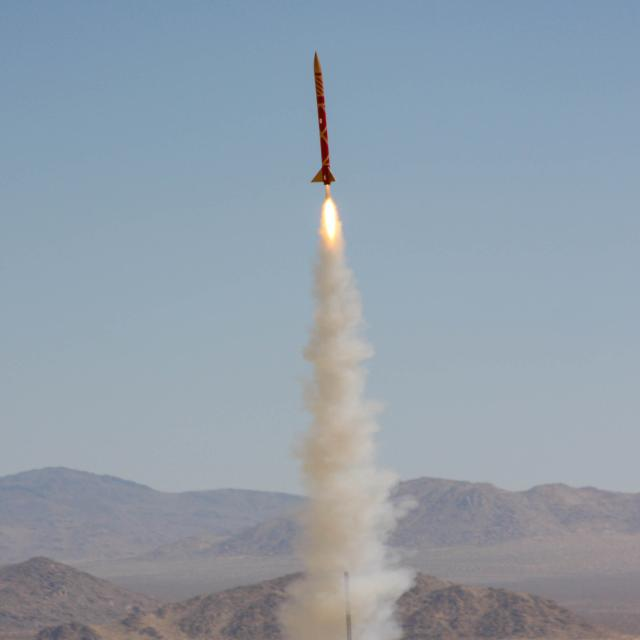Rocket: (309, 50, 339, 187)
